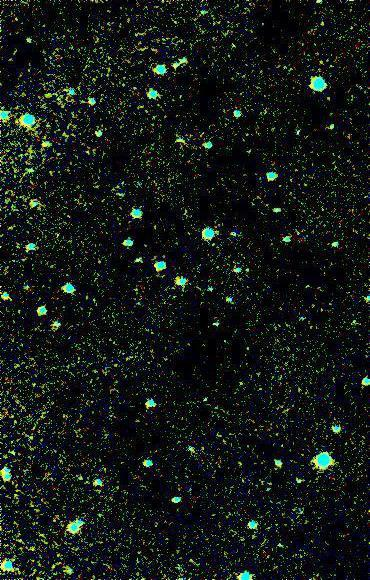star: (2, 4, 32, 34)
